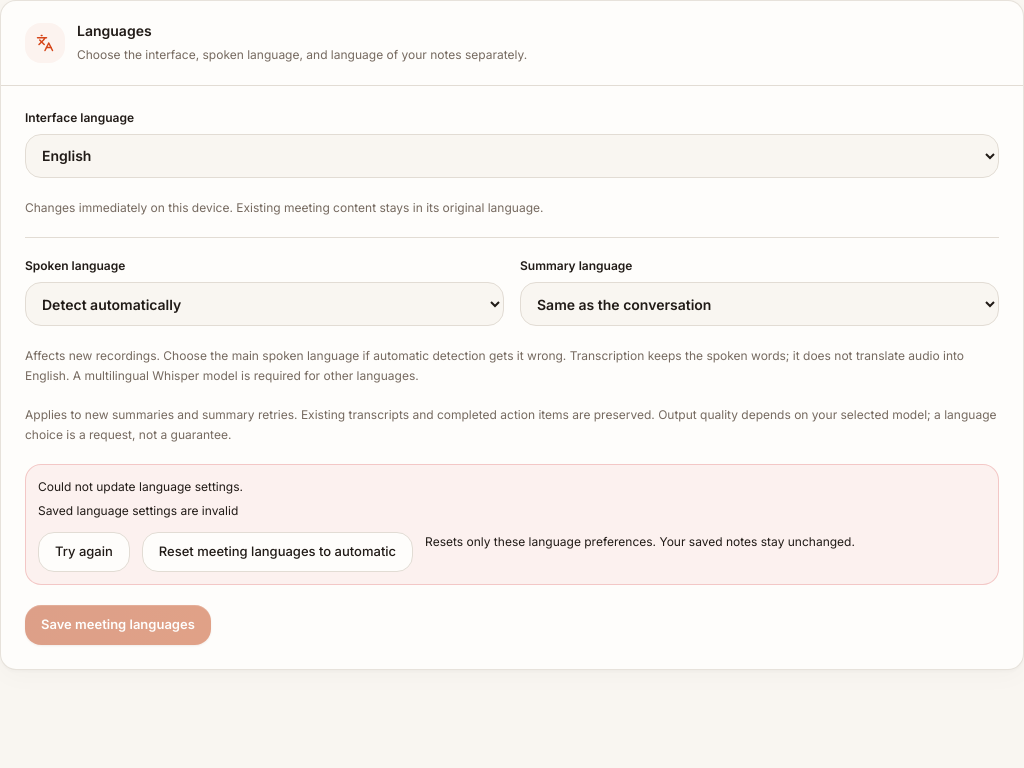
independent language preferences › repairs unreadable preferences only through an explicit reset
The image size is (1024, 768).
expect the message is shown: met, box [25,464,999,585]
Click the button "Reset meeting languages to automatic".
click(277, 552)  # box [142,532,413,572]
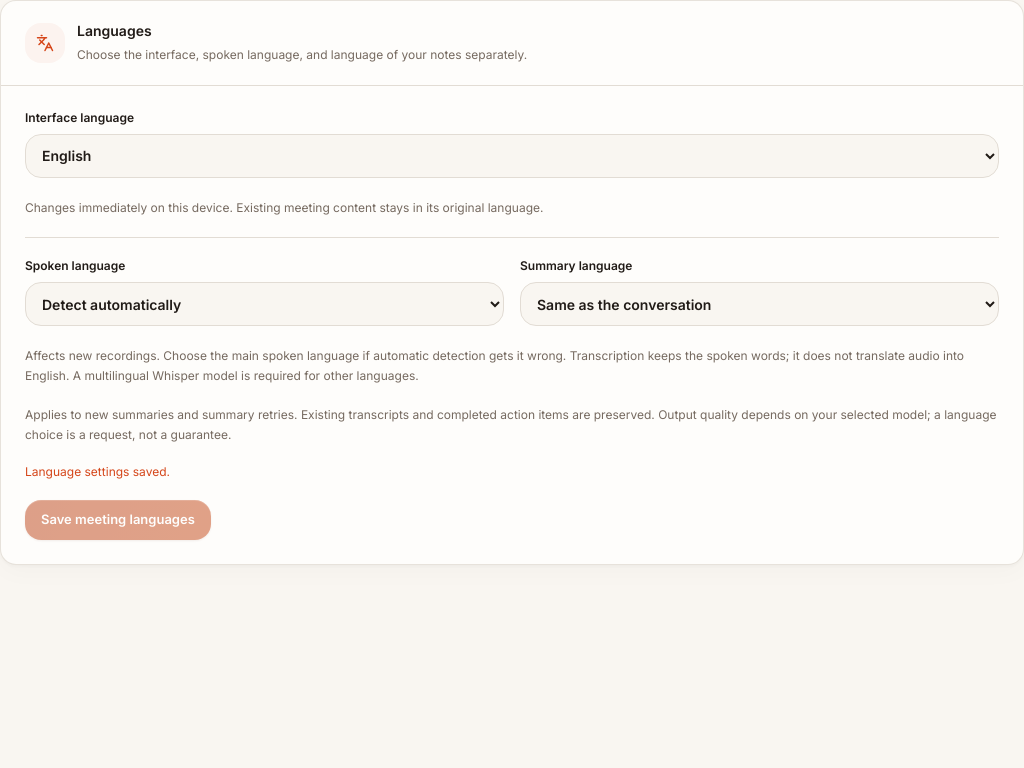
expect the dropdown labelled "Spoken language" is enabled: met, box [25,282,504,326]
expect the text "Language settings saved." is shown: met, box [25,464,170,479]
